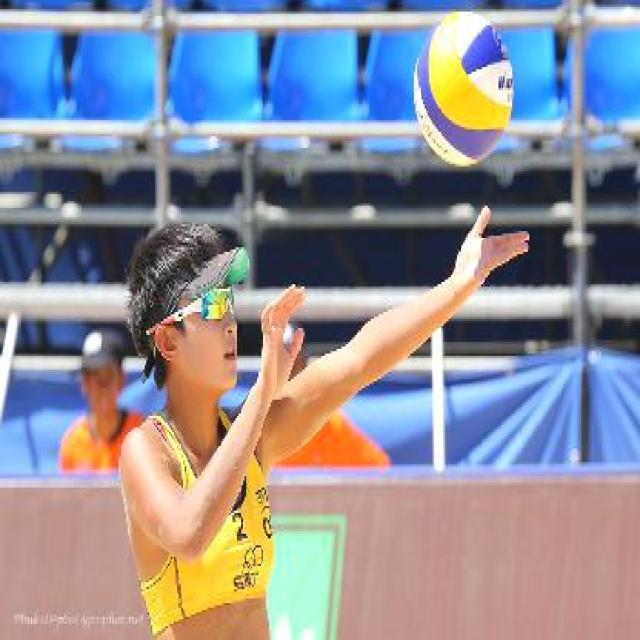volleyball: (412, 9, 514, 164)
